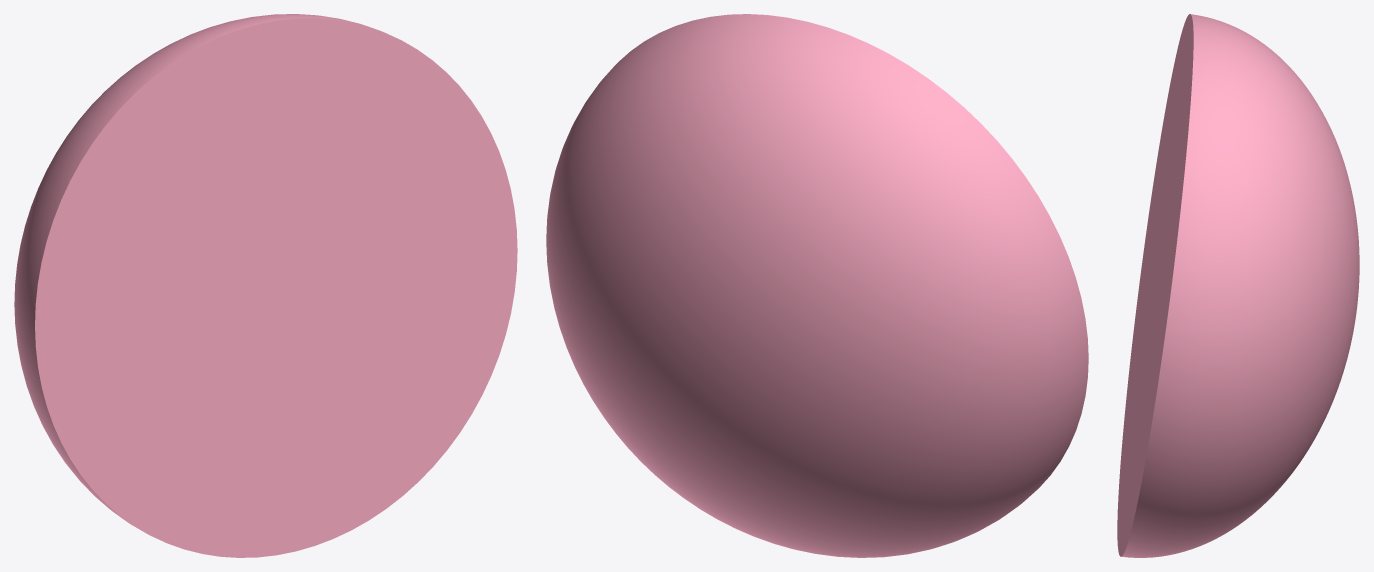
3 renders of one model, left to right at view 1: azimuth 30°, elevation 25°; view 2: azimuth 150°, elevation 25°; view 3: azimuth 270°, elevation 25°, orthographic. The views are drawn at different scales.
Parts seen in each view (by area): view 1: root; view 2: root; view 3: root.
Boxes of the visible parts, left/top/right/bottom form: root: left=14, top=14, right=517, bottom=557; root: left=546, top=14, right=1088, bottom=557; root: left=1117, top=14, right=1359, bottom=557.
Size of the model in its own units: 0.3908 by 0.388 by 0.173.
